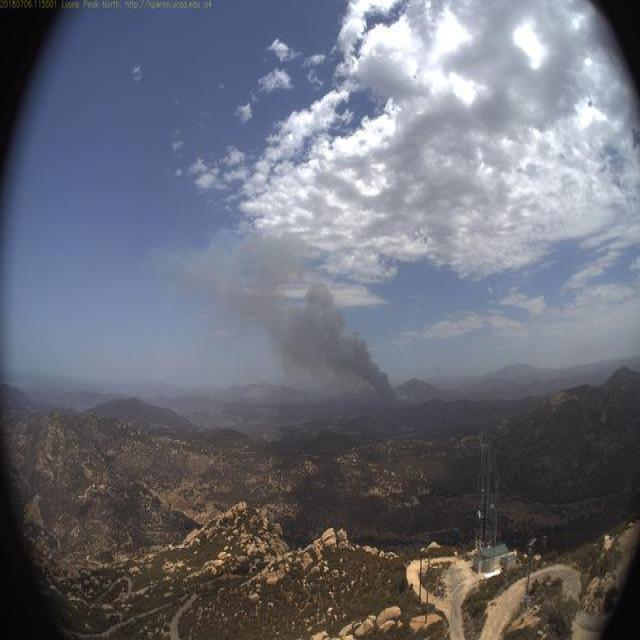smoke: (179, 223, 404, 413)
